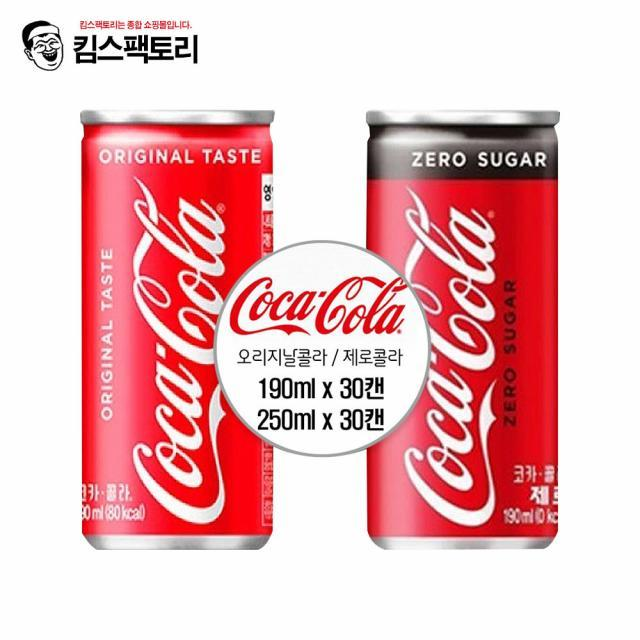coca-cola: (76, 101, 280, 559), (362, 104, 566, 556)
